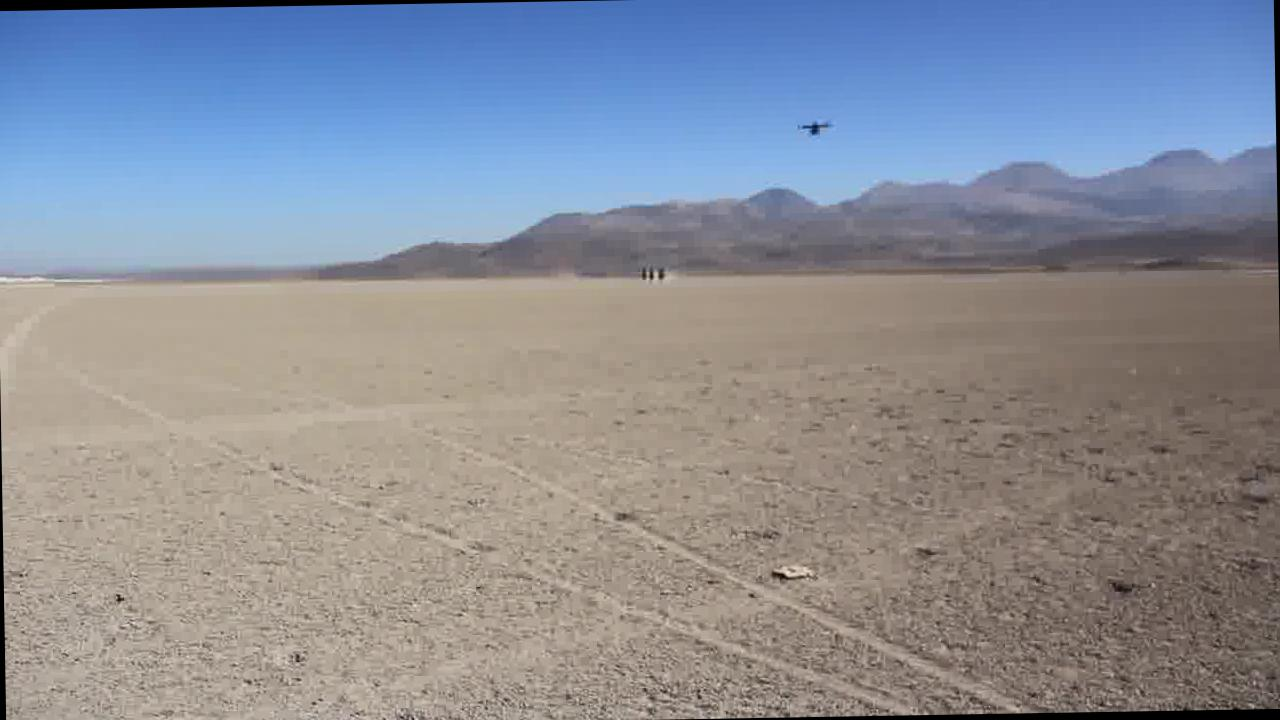drone: (793, 112, 834, 139)
